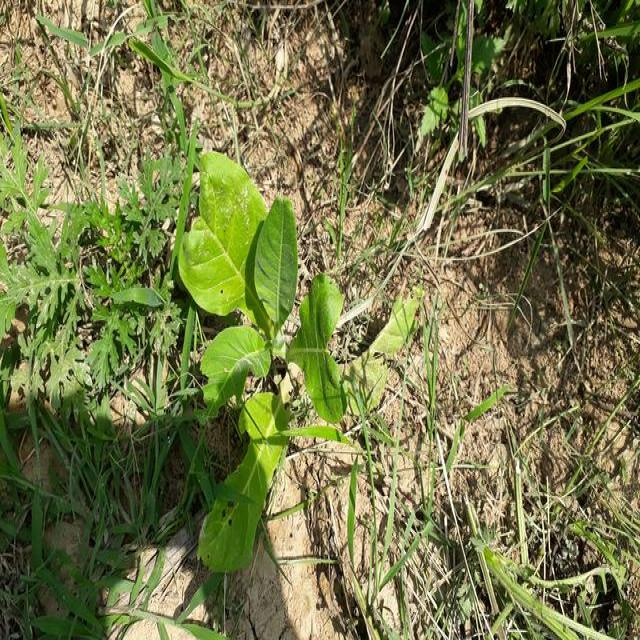crop: (178, 143, 415, 570)
